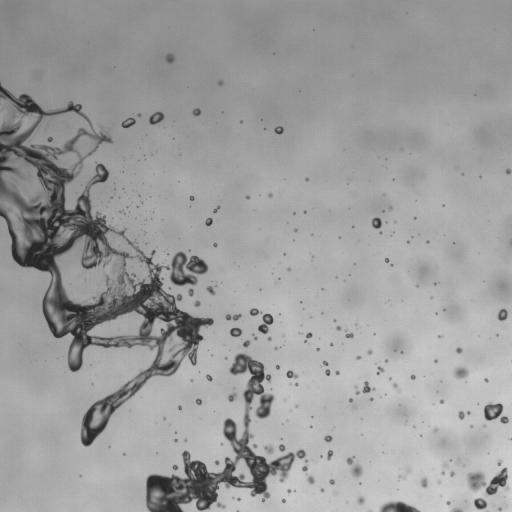droplet: (466, 467, 509, 511), (249, 308, 273, 333), (484, 402, 509, 423), (149, 112, 164, 124), (453, 366, 468, 378), (362, 381, 374, 393), (497, 308, 507, 321), (121, 118, 135, 127), (229, 327, 241, 337), (371, 217, 381, 228), (286, 370, 298, 378), (458, 411, 470, 419), (264, 445, 273, 454), (228, 392, 236, 402), (166, 54, 174, 63), (274, 126, 283, 134), (207, 286, 215, 295), (345, 329, 353, 338), (420, 477, 427, 487), (192, 108, 200, 116), (307, 475, 314, 484), (357, 496, 364, 505), (205, 218, 212, 226), (242, 340, 250, 347), (376, 366, 383, 374), (324, 435, 332, 442), (195, 398, 202, 405), (278, 444, 285, 451), (327, 450, 332, 459), (305, 333, 312, 339), (188, 288, 193, 296), (194, 300, 200, 306), (456, 347, 462, 353), (506, 168, 511, 174), (325, 369, 330, 375), (206, 374, 211, 380), (172, 465, 178, 470), (355, 387, 359, 394), (336, 325, 341, 330), (367, 349, 372, 354), (455, 459, 460, 464), (406, 468, 411, 473), (329, 479, 334, 484), (497, 459, 501, 465), (399, 475, 405, 479), (218, 80, 222, 85), (268, 192, 272, 197), (322, 361, 327, 365), (348, 398, 353, 402), (450, 471, 454, 476), (287, 489, 292, 493), (48, 137, 52, 141), (190, 196, 194, 200), (213, 243, 217, 247), (438, 334, 442, 338), (356, 355, 360, 359), (335, 370, 339, 374), (411, 375, 415, 379), (369, 397, 373, 401), (440, 399, 444, 403), (433, 428, 437, 432), (215, 460, 219, 464), (320, 488, 324, 492), (389, 206, 392, 210), (121, 210, 124, 214), (385, 258, 388, 262), (276, 365, 279, 369), (484, 378, 488, 381), (446, 501, 450, 504), (498, 507, 501, 511), (246, 196, 249, 199), (268, 337, 271, 340), (295, 383, 298, 386), (178, 406, 181, 409), (437, 480, 440, 483), (282, 499, 285, 502), (138, 113, 140, 116), (305, 178, 308, 180), (294, 229, 297, 231), (287, 268, 290, 270), (330, 343, 333, 345), (274, 347, 277, 349), (385, 359, 387, 362), (174, 439, 177, 441), (237, 498, 240, 500), (26, 192, 28, 194), (333, 319, 335, 321), (317, 348, 319, 350), (434, 360, 436, 362), (470, 425, 472, 427), (483, 425, 485, 427), (184, 439, 186, 441)
ligament: (0, 82, 213, 446), (147, 353, 304, 511), (378, 501, 420, 511), (346, 456, 362, 478), (441, 461, 449, 474), (225, 314, 241, 320), (302, 459, 308, 473), (393, 383, 401, 392), (450, 507, 463, 511), (213, 206, 220, 212), (252, 334, 257, 340), (367, 509, 373, 511), (510, 240, 511, 244), (510, 437, 511, 440)
